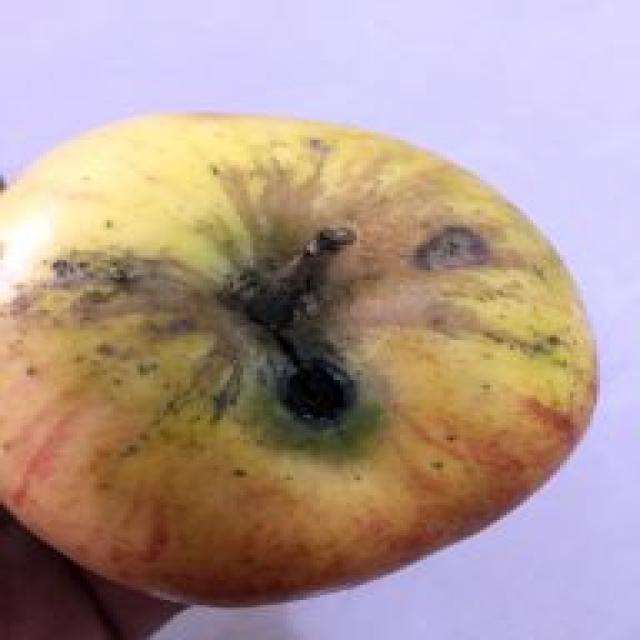Bad_Apple: (2, 115, 593, 604)
